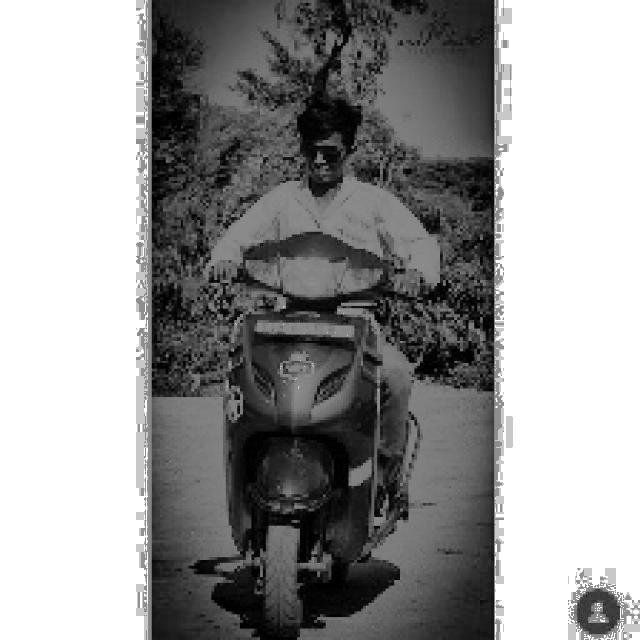Bike: (227, 225, 391, 597)
